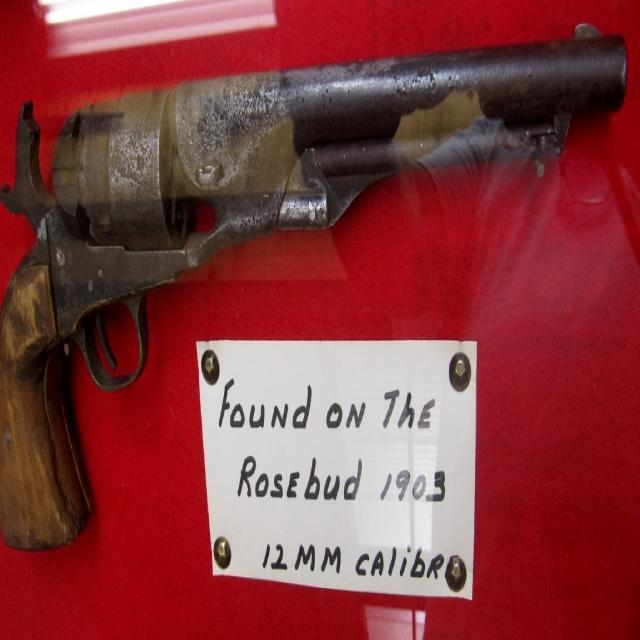weapon: (0, 20, 626, 551)
